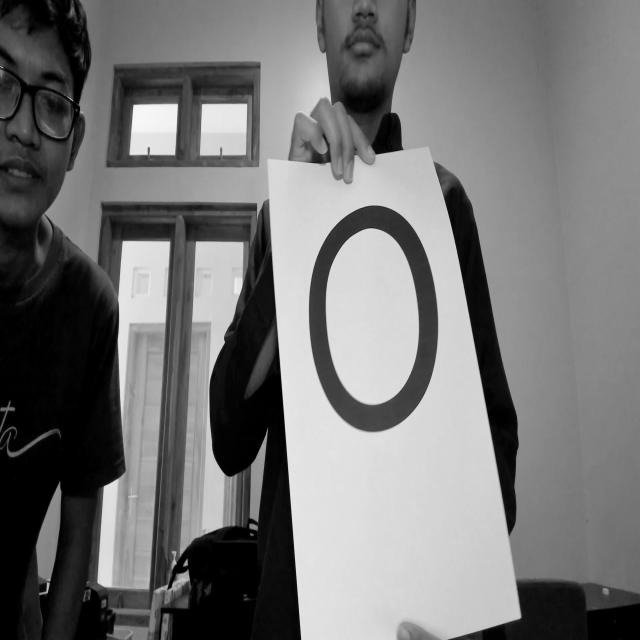o: (298, 182, 446, 454)
